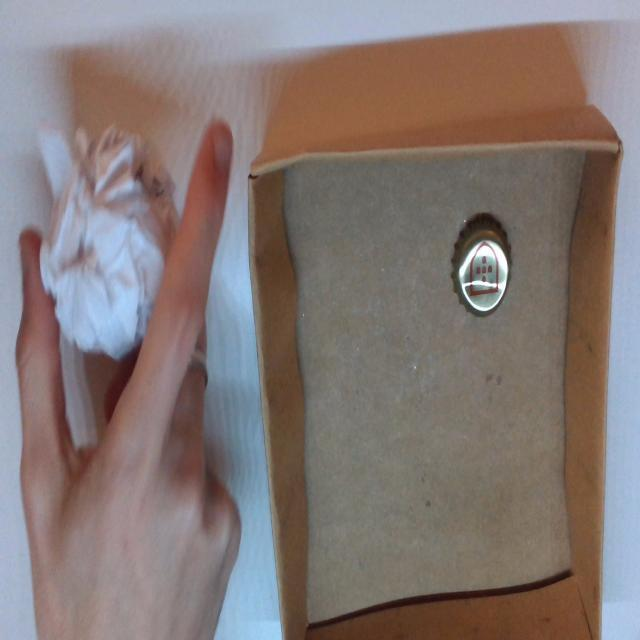Cardboard: (246, 107, 624, 640)
Paper: (36, 120, 178, 346)
